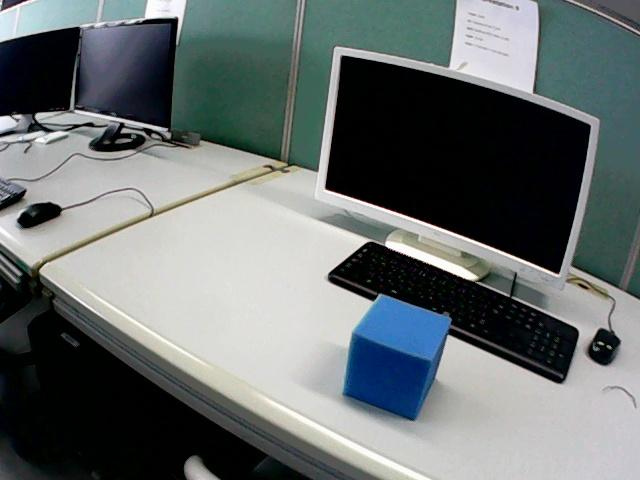blue_block: (343, 295, 450, 418)
